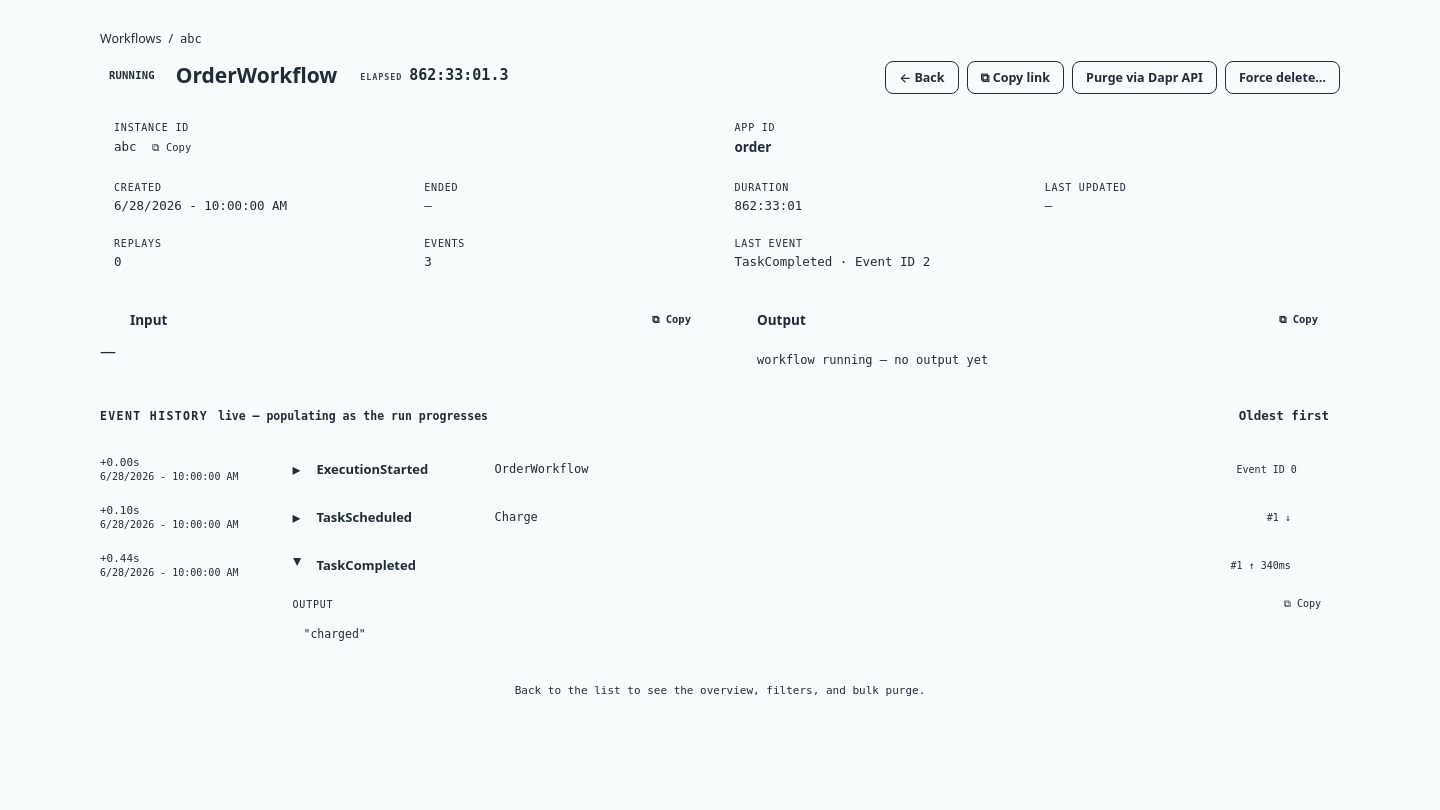
Test: WorkflowDetail — pair selection › does not re-select on refetch after a manual deselect (running workflow)
Expected: the heading "OrderWorkflow" is shown, [176,61,337,89]
// Manually deselect by clicking the active row.
Click the heading "▸ TaskCompleted #1 ↑ 340ms". click: (366, 565)
box: [288,556,1291,574]
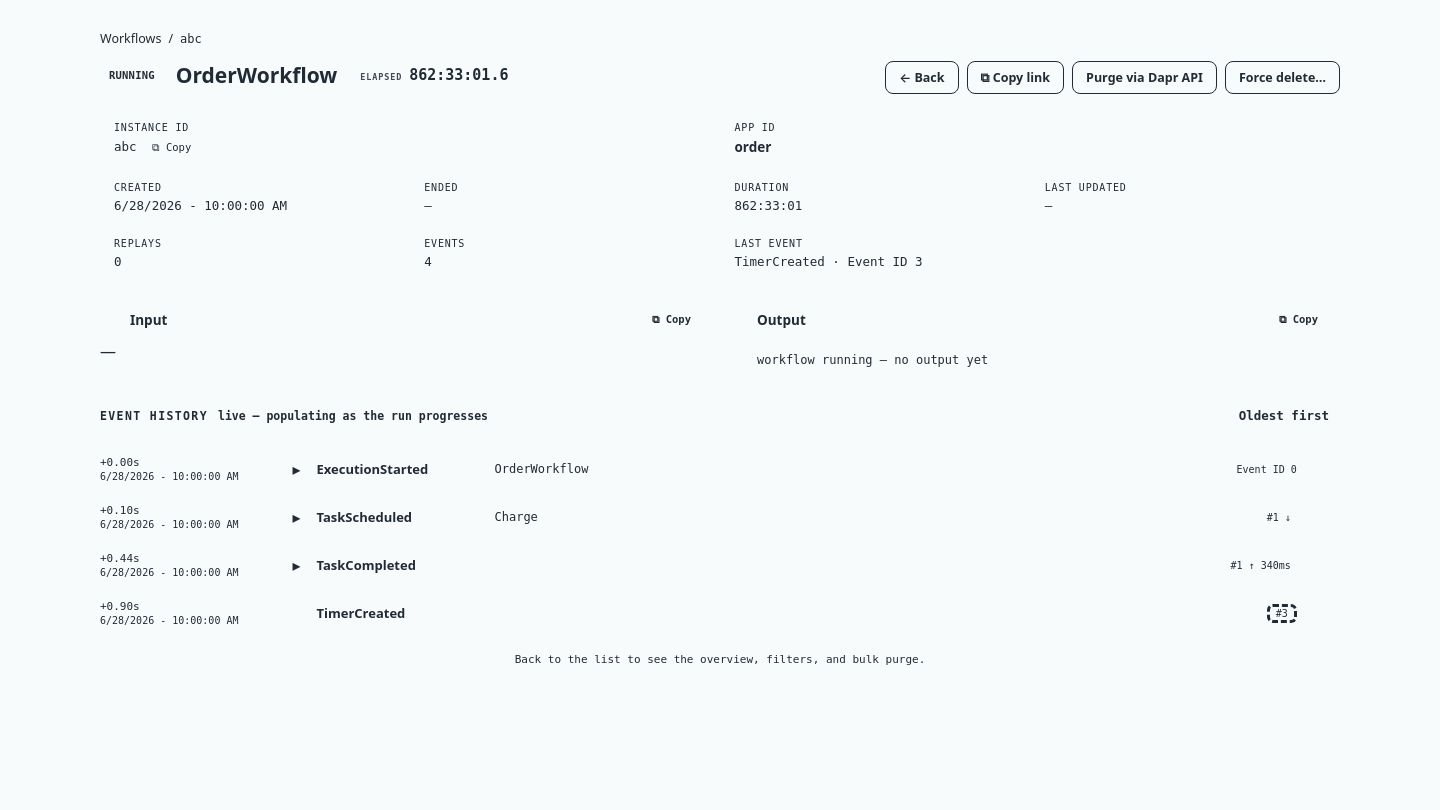
Now the element showing "+0.90s 6/28/2026 - 10:00:00 AM TimerCreated #3" is shown, box [100,600,1297,626]
